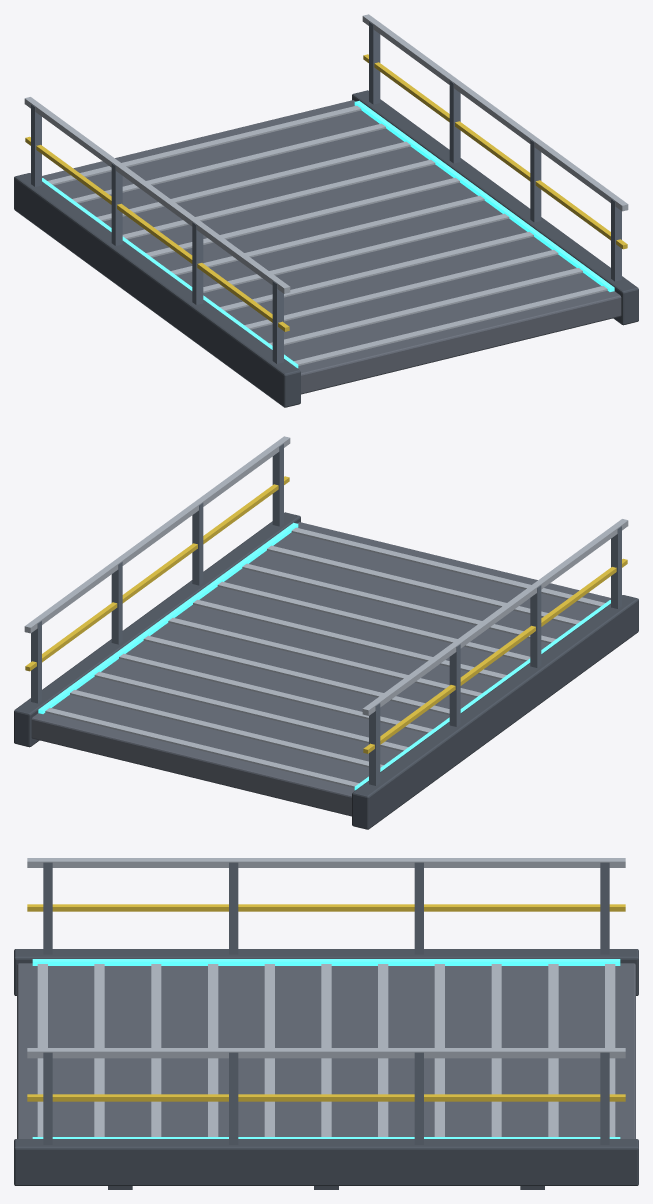
The model's file is pasarela_crio.glb.
3 views of the same model, one above another, from view 1: azimuth 30°, elevation 25°; view 2: azimuth 150°, elevation 25°; view 3: azimuth 270°, elevation 25° (orthographic). The views are drawn at different scales.
Visible parts, largest first — view 1: Cubierta_Base, VigaLat_-2.18, VigaLat_2.18, BarandaSup_-2.18, BarandaSup_2.18, BarandaMed_2.18, BarandaMed_-2.18, GuiaCian_2.18, Travesano_0, Travesano_1, Travesano_2, Travesano_7 (+16 smaller); view 2: Cubierta_Base, VigaLat_-2.18, VigaLat_2.18, BarandaSup_-2.18, BarandaSup_2.18, BarandaMed_2.18, BarandaMed_-2.18, GuiaCian_2.18, Travesano_10, Travesano_9, Travesano_8, Travesano_3 (+16 smaller); view 3: Cubierta_Base, VigaLat_2.18, VigaLat_-2.18, BarandaSup_2.18, BarandaSup_-2.18, BarandaMed_2.18, BarandaMed_-2.18, GuiaCian_-2.18, Travesano_1, Travesano_5, Travesano_9, Travesano_2 (+16 smaller).
Part boxes in pixels (x1,y1,x2,y2): Cubierta_Base: (42, 100, 621, 394); VigaLat_-2.18: (14, 173, 300, 407); VigaLat_2.18: (352, 90, 638, 325); BarandaSup_-2.18: (24, 97, 290, 293); BarandaSup_2.18: (362, 14, 628, 211); BarandaMed_2.18: (363, 54, 627, 249); BarandaMed_-2.18: (25, 136, 289, 331); GuiaCian_2.18: (354, 100, 614, 291); Travesano_0: (294, 286, 607, 365); Travesano_1: (269, 268, 582, 345); Travesano_2: (244, 249, 558, 329); Travesano_7: (122, 159, 435, 239); Cubierta_Base: (31, 522, 610, 816); VigaLat_-2.18: (352, 595, 638, 829); VigaLat_2.18: (14, 512, 300, 747); BarandaSup_-2.18: (362, 519, 628, 715); BarandaSup_2.18: (24, 436, 290, 633); BarandaMed_2.18: (25, 476, 289, 671); BarandaMed_-2.18: (363, 558, 627, 753); GuiaCian_2.18: (38, 522, 298, 713); Travesano_10: (45, 708, 358, 787); Travesano_9: (70, 690, 383, 767); Travesano_8: (94, 671, 408, 751); Travesano_3: (217, 581, 530, 661); Cubierta_Base: (17, 963, 635, 1138); VigaLat_2.18: (14, 1139, 638, 1185); VigaLat_-2.18: (14, 949, 638, 995); BarandaSup_2.18: (27, 1048, 625, 1058); BarandaSup_-2.18: (27, 858, 625, 867); BarandaMed_2.18: (27, 1094, 625, 1101); BarandaMed_-2.18: (27, 904, 625, 911); GuiaCian_-2.18: (32, 959, 620, 965); Travesano_1: (94, 964, 104, 1136); Travesano_5: (321, 964, 331, 1136); Travesano_9: (548, 964, 558, 1136); Travesano_2: (151, 964, 161, 1136).
Bounding box in the file's own units: 4.58 × 1.53 × 6.06.
